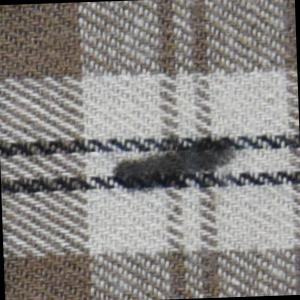Stain: (104, 131, 246, 201)
